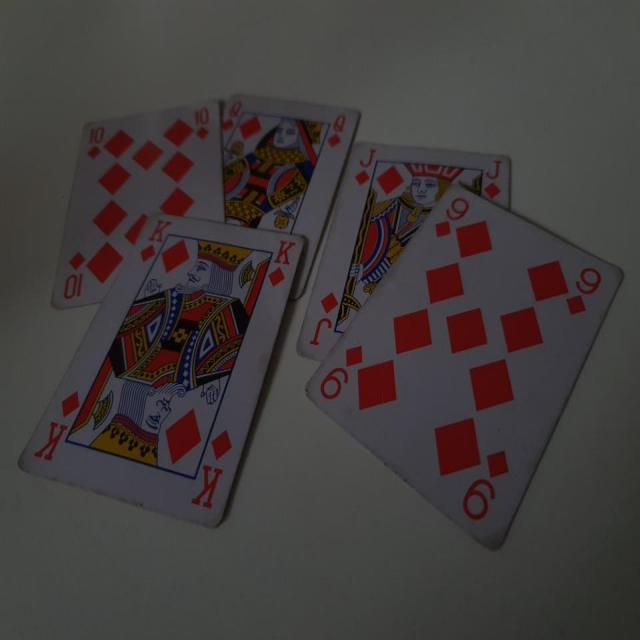10 Diamonds: (49, 94, 224, 313)
9 Diamonds: (302, 183, 628, 557)
J Diamonds: (296, 140, 510, 362)
K Diamonds: (19, 211, 306, 533)
Q Diamonds: (222, 94, 362, 294)
